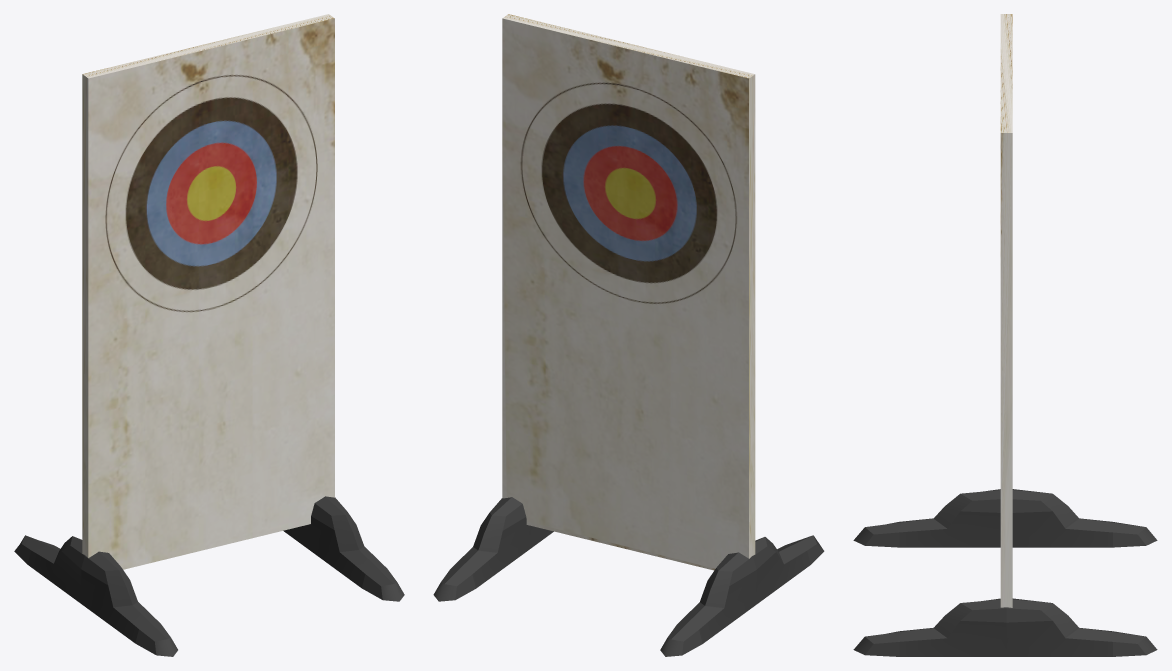
File: mato.fbx
3 views of the same model, side by side, from view 1: azimuth 30°, elevation 25°; view 2: azimuth 150°, elevation 25°; view 3: azimuth 270°, elevation 25° (orthographic).
Parts seen in each view (by area): view 1: pCube1, pCube3, pCube2; view 2: pCube1, pCube3, pCube2; view 3: pCube2, pCube3, pCube1.
Boxes of the visible parts, left/top/right/bottom form: pCube1: left=82, top=14, right=334, bottom=569; pCube3: left=14, top=535, right=177, bottom=656; pCube2: left=283, top=496, right=404, bottom=601; pCube1: left=502, top=14, right=755, bottom=570; pCube3: left=660, top=535, right=824, bottom=656; pCube2: left=433, top=497, right=553, bottom=601; pCube2: left=853, top=598, right=1157, bottom=656; pCube3: left=853, top=489, right=1157, bottom=547; pCube1: left=1000, top=14, right=1012, bottom=607.
Bounding box in the file's own units: 130 × 255 × 135.
2 materials, 1 textured.
